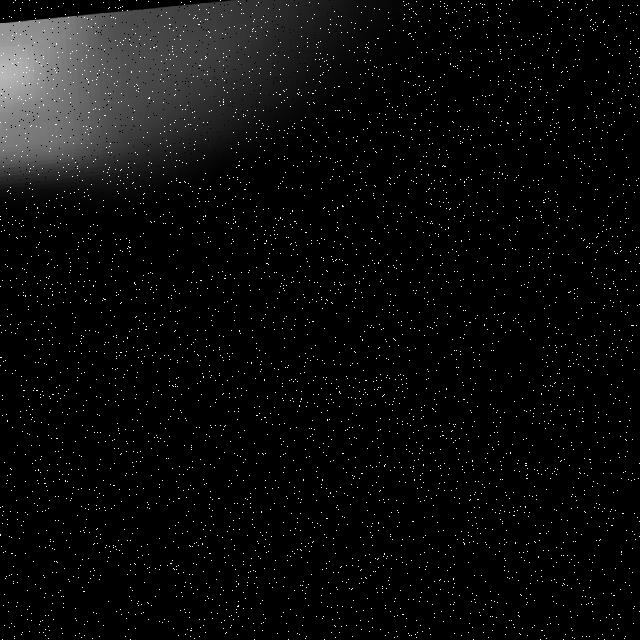person: (1, 1, 502, 222)
